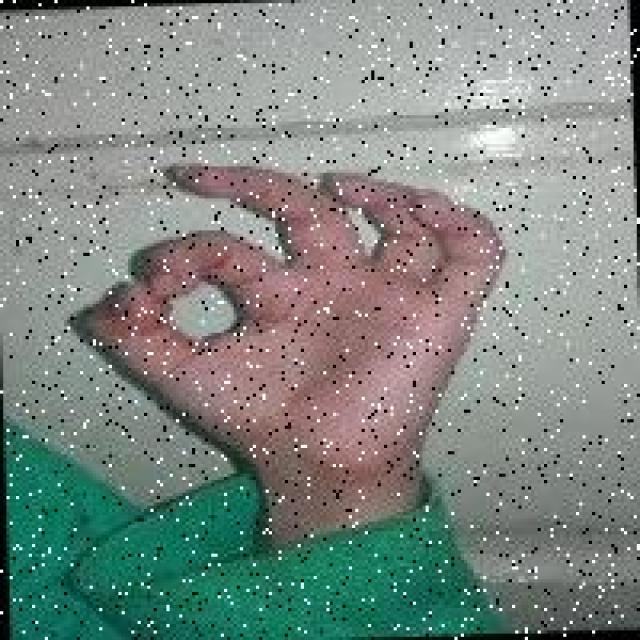F: (59, 138, 517, 486)
